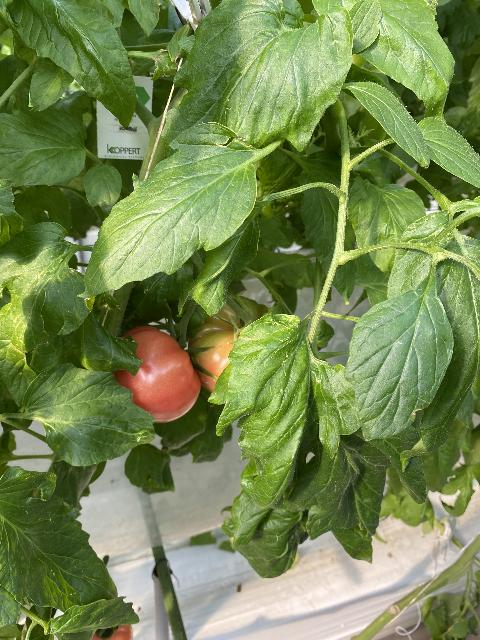b_fully_ripened: (112, 325, 202, 423)
b_half_ripened: (188, 294, 270, 392)
